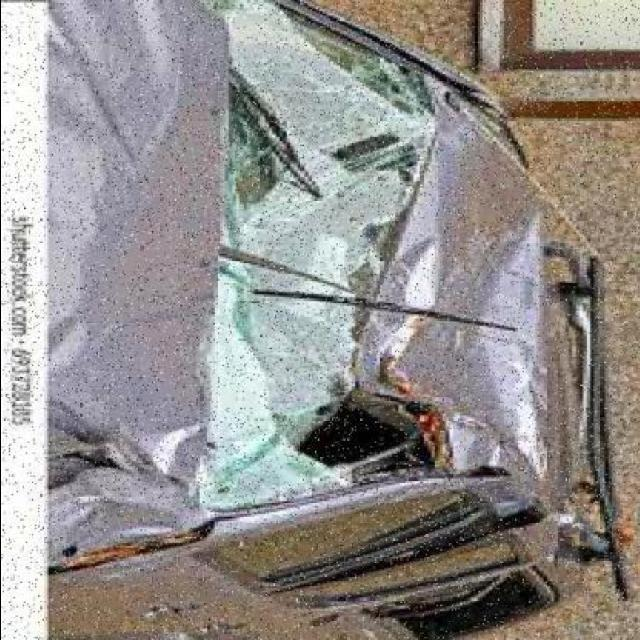Front-Windscreen-Damage: (185, 19, 461, 516)
bonnet-dent: (44, 1, 225, 485)
roof-dent: (383, 82, 600, 504)
